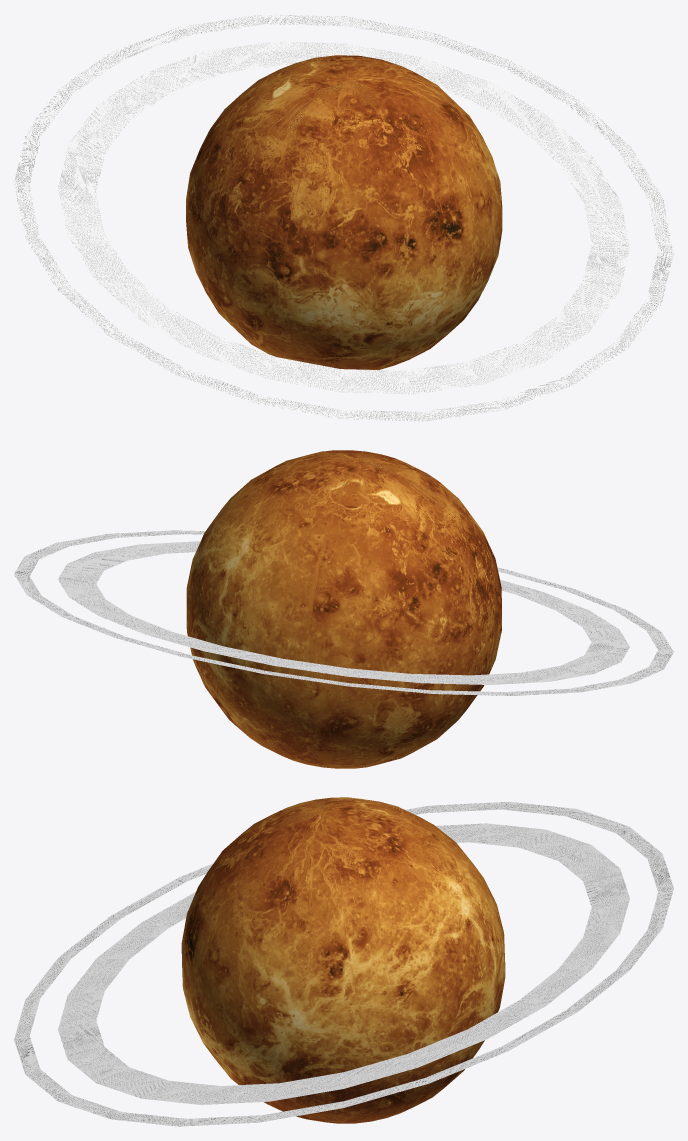
File: saturn 3.dae
3 renders of one model, top to bottom at view 1: azimuth 30°, elevation 25°; view 2: azimuth 150°, elevation 25°; view 3: azimuth 270°, elevation 25°, orthographic. The views are drawn at different scales.
Visible parts, largest first — view 1: SketchUp (×3); view 2: SketchUp (×3); view 3: SketchUp (×3).
Part boxes in pixels (<box>): SketchUp (×3): <box>14,14,673,421</box>; SketchUp (×3): <box>14,450,673,768</box>; SketchUp (×3): <box>14,797,673,1126</box>.
Bounding box in the file's own units: 245 × 238 × 117.
